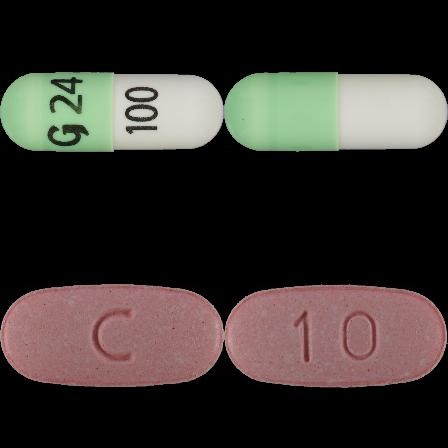63187-583: (0, 0, 224, 224)
